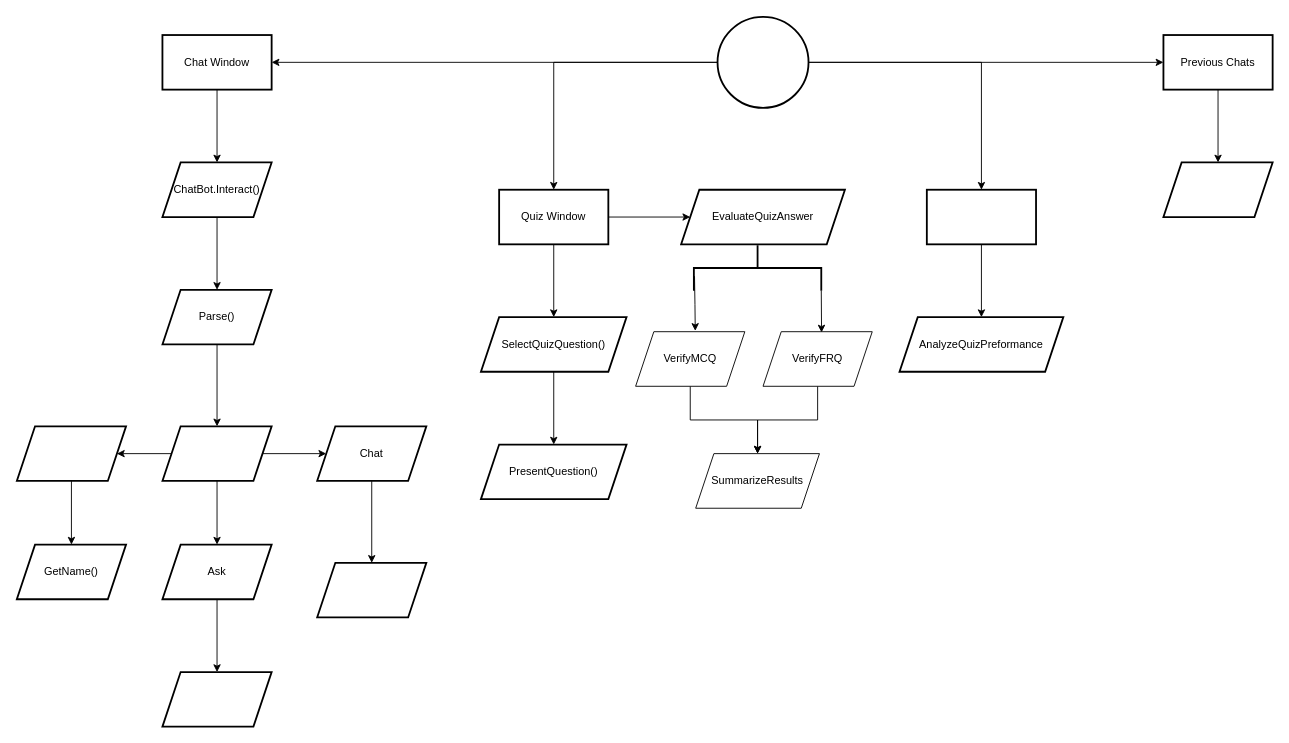
Some shapes in this 1289 by 743 pixel diagram are drawn without their labels. The shapes that lost their labels are listed below. From the top down, each one's centre as x and y in pixels, then its label:
At (x=762, y=61): "Start".
At (x=1217, y=189): "LoadChatLog".
At (x=980, y=216): "Analytics DashBoard".
At (x=70, y=453): "Greet".
At (x=216, y=453): "GetState()".
At (x=371, y=589): "ChatReply()".
At (x=216, y=699): "Generate Fact".
